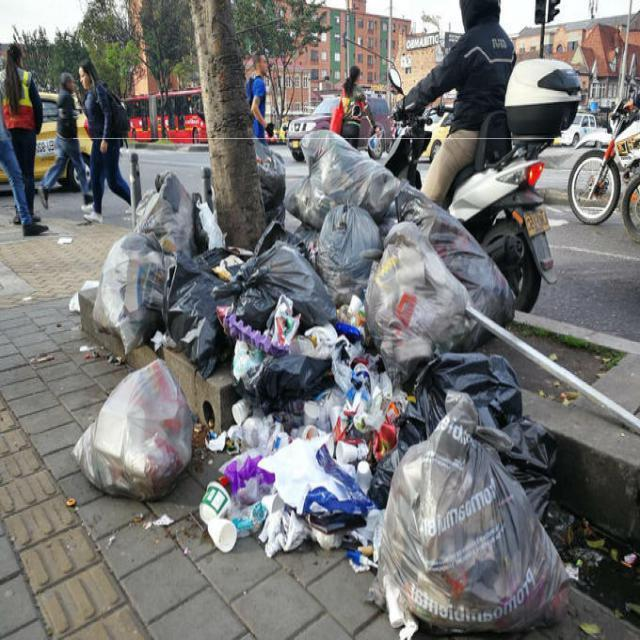Trashbag: (402, 342, 522, 435), (234, 240, 331, 339), (165, 251, 243, 370), (490, 414, 560, 498), (254, 350, 347, 411)
